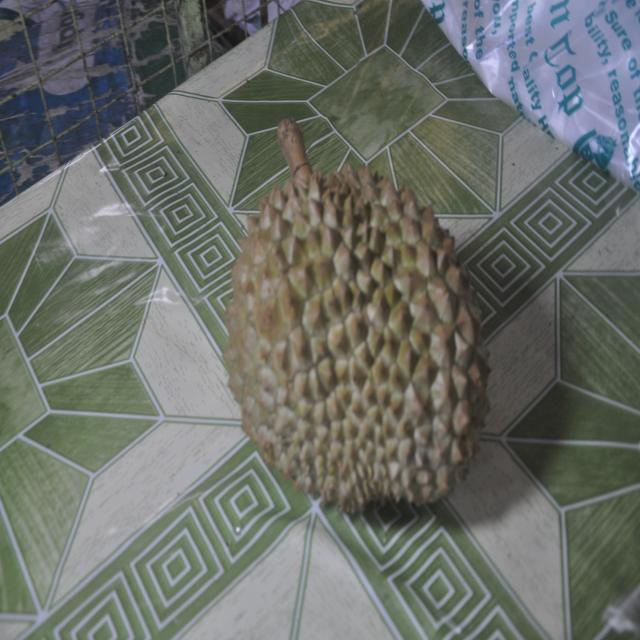mature: (224, 119, 489, 512)
